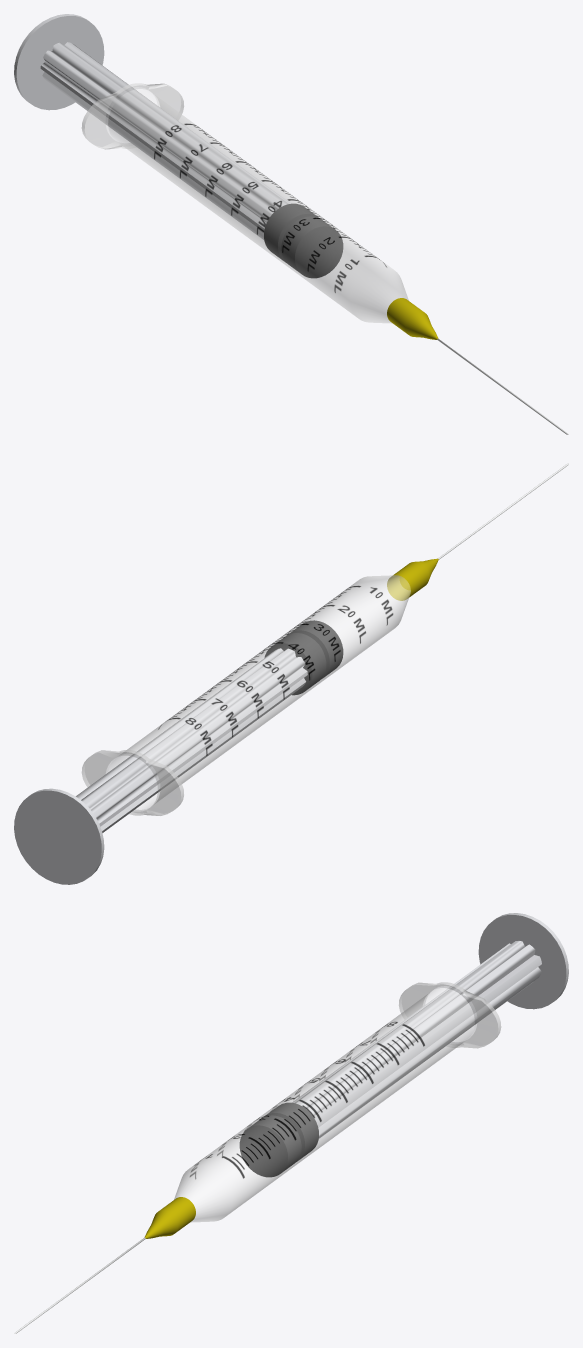
File: suntik-compressed.glb
3 renders of one model, top to bottom at view 1: azimuth 30°, elevation 25°; view 2: azimuth 150°, elevation 25°; view 3: azimuth 330°, elevation 25°, orthographic.
Parts seen in each view (by area): view 1: Suntik.002; view 2: Suntik.002; view 3: Suntik.002.
Part boxes in pixels (left/top/right/bottom): Suntik.002: left=14, top=14, right=568, bottom=434; Suntik.002: left=14, top=463, right=568, bottom=884; Suntik.002: left=14, top=913, right=568, bottom=1333.
Size of the model in its own units: 0.0414 by 0.0365 by 0.3679.
5 materials, 2 textured.
